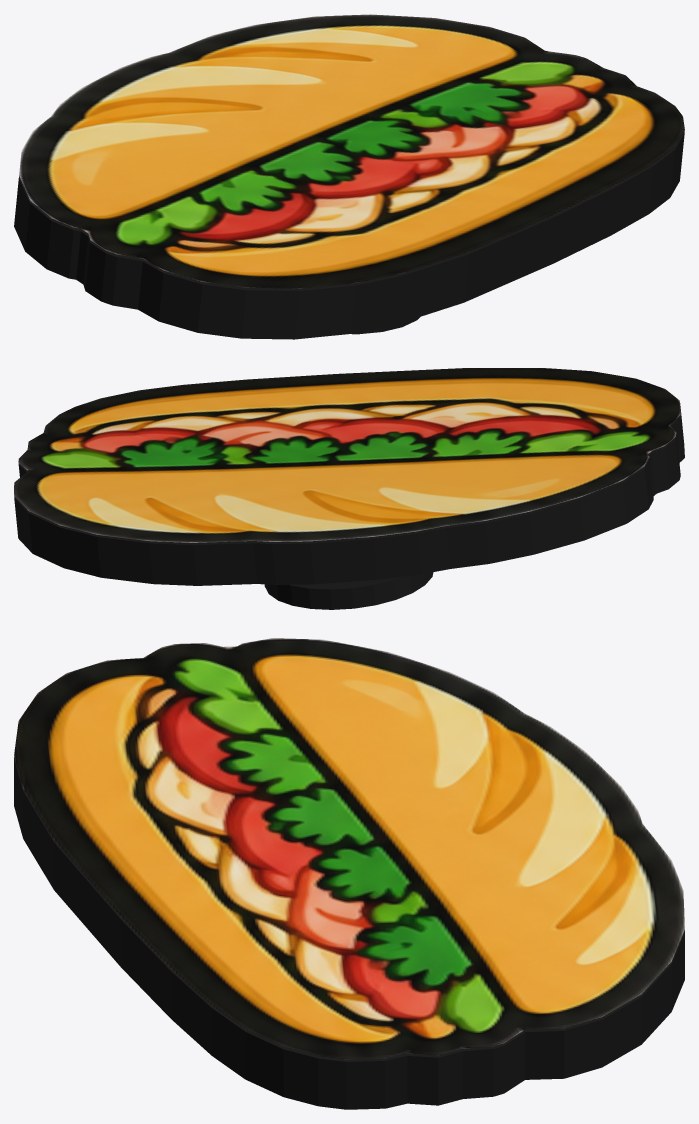
File: food-banh-mi.glb
3 views of the same model, one above another, from view 1: azimuth 30°, elevation 25°; view 2: azimuth 150°, elevation 25°; view 3: azimuth 270°, elevation 25° (orthographic). The views are drawn at different scales.
Parts seen in each view (by area): view 1: FOOD_Banh_Mi_MODEL; view 2: FOOD_Banh_Mi_MODEL; view 3: FOOD_Banh_Mi_MODEL.
Part boxes in pixels (x1,y1,x2,y2): FOOD_Banh_Mi_MODEL: [14, 14, 684, 339]; FOOD_Banh_Mi_MODEL: [14, 368, 684, 609]; FOOD_Banh_Mi_MODEL: [14, 638, 684, 1109].
Size of the model in its own units: 0.3731 by 0.1023 by 0.3063.
3 materials, 1 textured.
